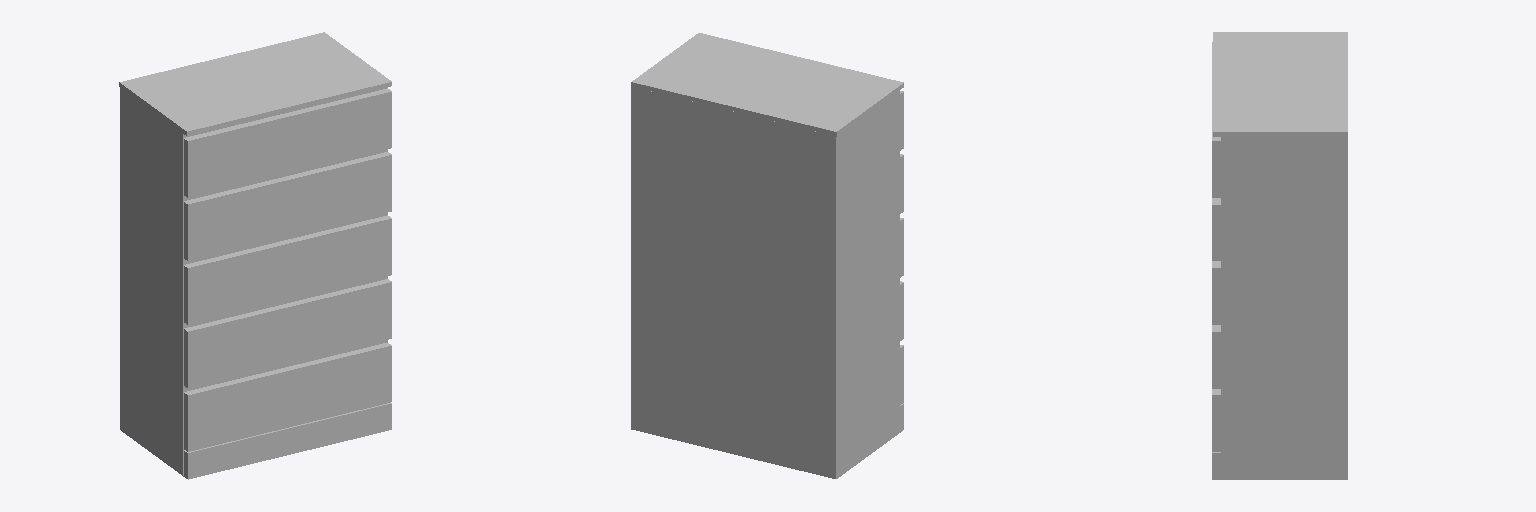
File: СКОНЕВИК.obj
The picture shows the model from 3 angles: view 1: azimuth 30°, elevation 25°; view 2: azimuth 150°, elevation 25°; view 3: azimuth 270°, elevation 25°; orthographic projection.
Visible parts, largest first — view 1: Cube.009_Cube.011, Cube.002_Cube.003, Cube.003_Cube.005; view 2: Cube.003_Cube.005, Cube.002_Cube.003, Cube.009_Cube.011; view 3: Cube.002_Cube.003, Cube.009_Cube.011.
Boxes of the visible parts, x1=… form: Cube.009_Cube.011: x1=127, y1=88, x2=391, y2=479; Cube.002_Cube.003: x1=119, y1=32, x2=391, y2=475; Cube.003_Cube.005: x1=188, y1=88, x2=383, y2=390; Cube.003_Cube.005: x1=636, y1=88, x2=831, y2=477; Cube.002_Cube.003: x1=631, y1=33, x2=903, y2=478; Cube.009_Cube.011: x1=840, y1=91, x2=903, y2=476; Cube.002_Cube.003: x1=1213, y1=32, x2=1347, y2=479; Cube.009_Cube.011: x1=1212, y1=42, x2=1220, y2=479.
Size of the model in its own units: 1.4 by 2.27 by 0.8058.